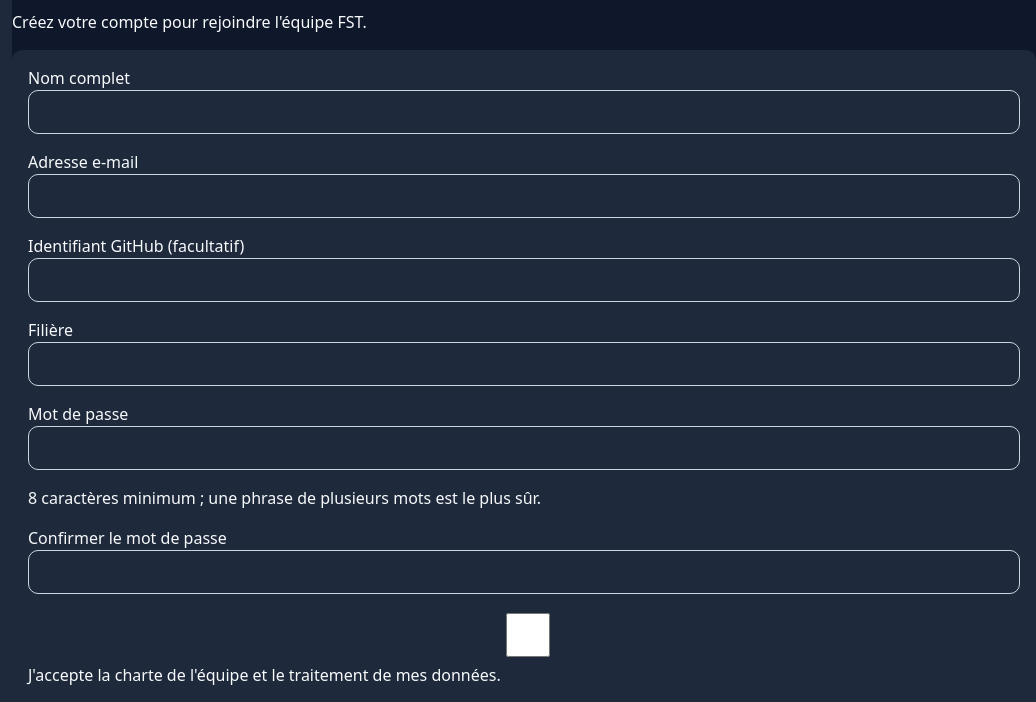
Test case: Inscription › envoie l'inscription et confirme
This screenshot has width=1036, height=702.
Type "Aïcha Mint Ahmed" into the field labelled "Nom complet".
click(524, 112); type("Aïcha Mint Ahmed")  # box [28,90,1020,134]
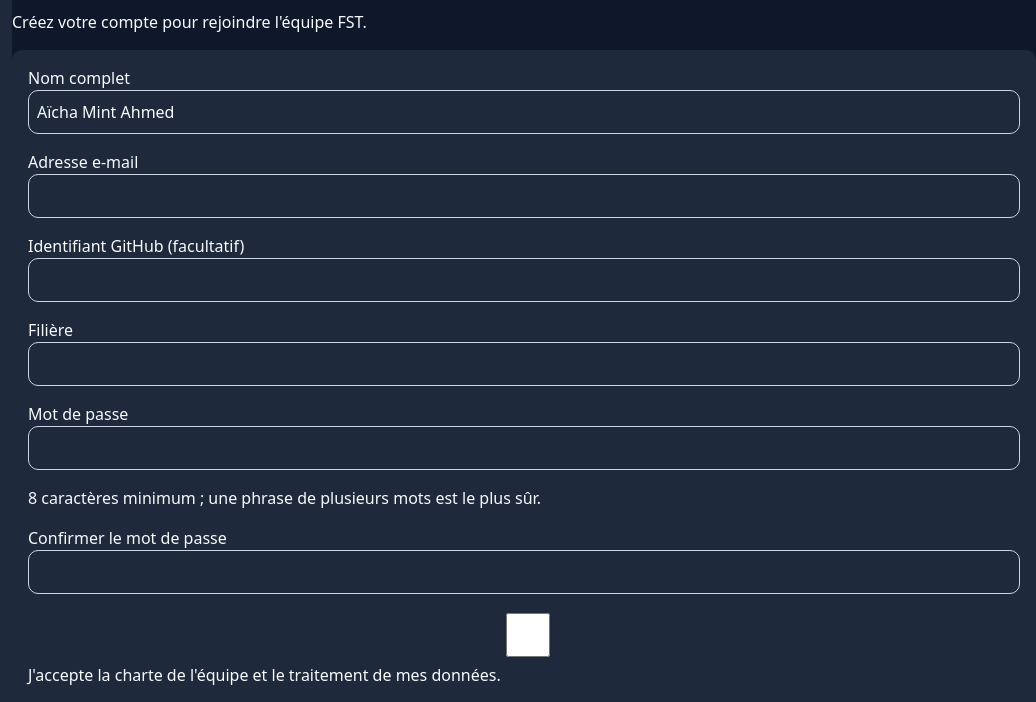
Type "aicha@example.com" into the field labelled "Adresse e-mail".
click(524, 196); type("aicha@example.com")  # box [28,174,1020,218]
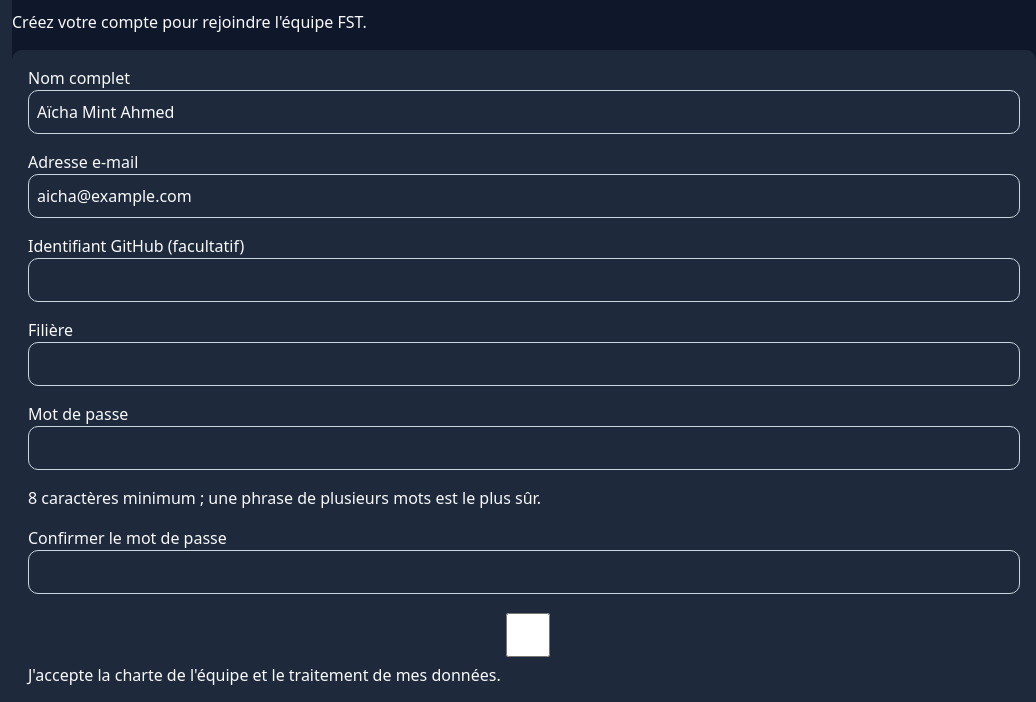
Type "sable-dromadaire-7-lune" into the password field labelled "Mot de passe".
click(524, 448); type("sable-dromadaire-7-lune")  # box [28,426,1020,470]
(page scrolled)
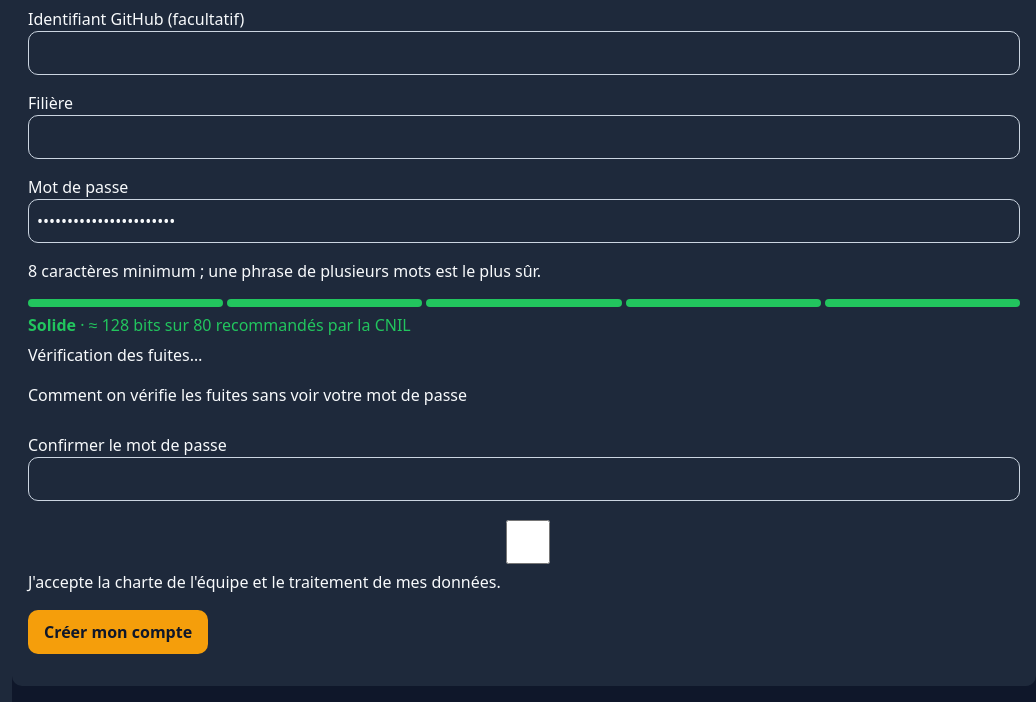
Type "sable-dromadaire-7-lune" into the password field labelled "Confirmer le mot de passe".
click(524, 479); type("sable-dromadaire-7-lune")  # box [28,457,1020,501]
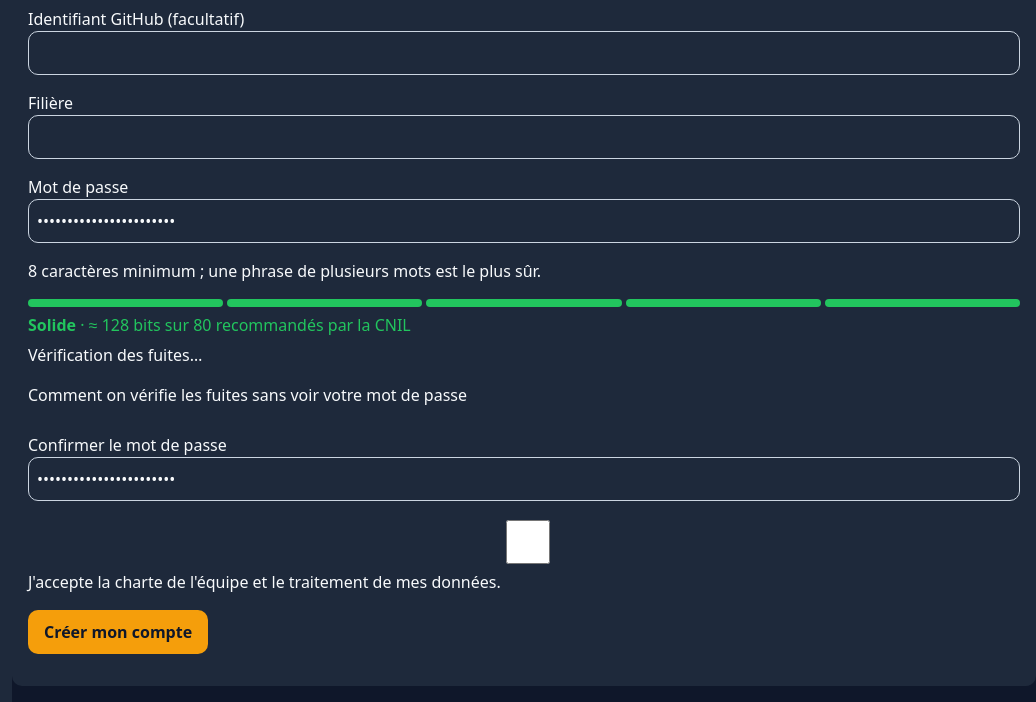
Click the checkbox labelled "J'accepte la charte".
click(528, 542)  # box [32,520,1024,564]
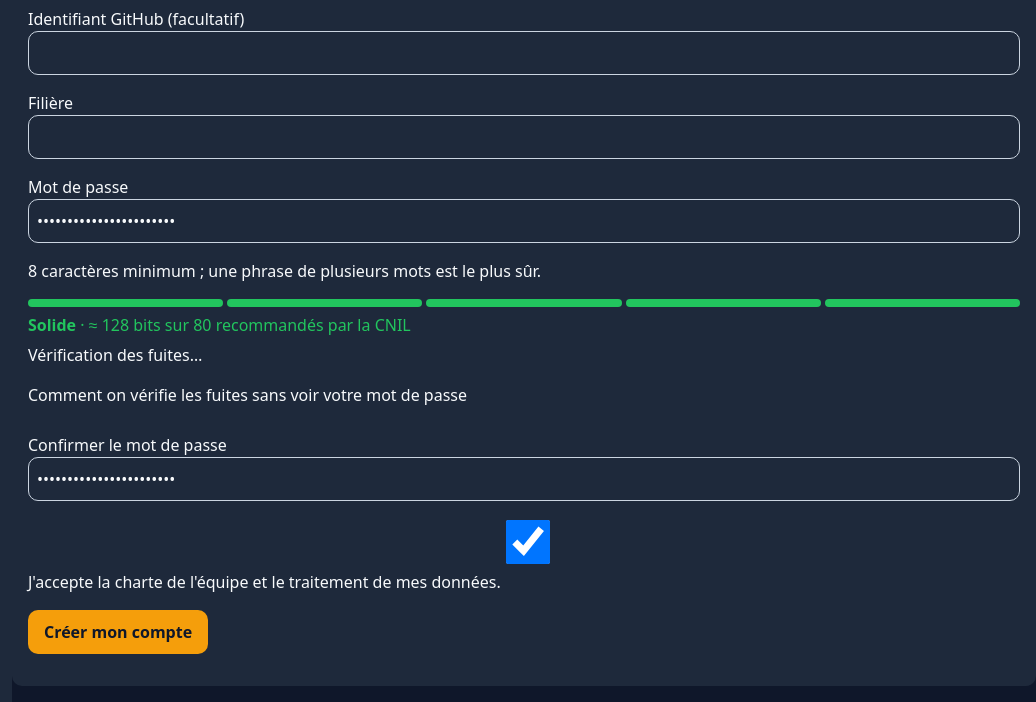
Click the button "Créer mon compte".
click(118, 632)  # box [28,610,208,654]
(page scrolled)
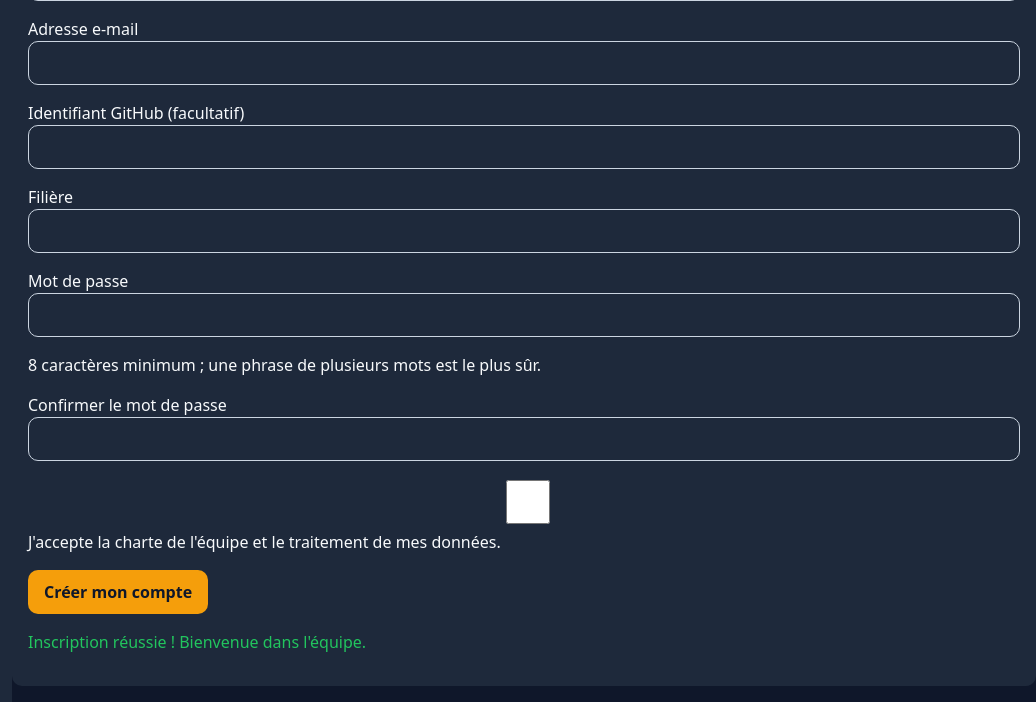
Expected: the text "Inscription réussie ! Bienvenue dans l'équipe." is shown, [28,631,366,653]
